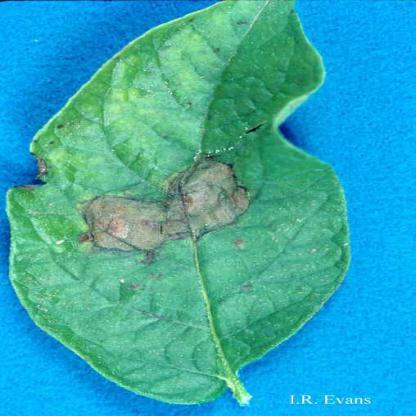Potato leaf: (3, 0, 354, 406)
